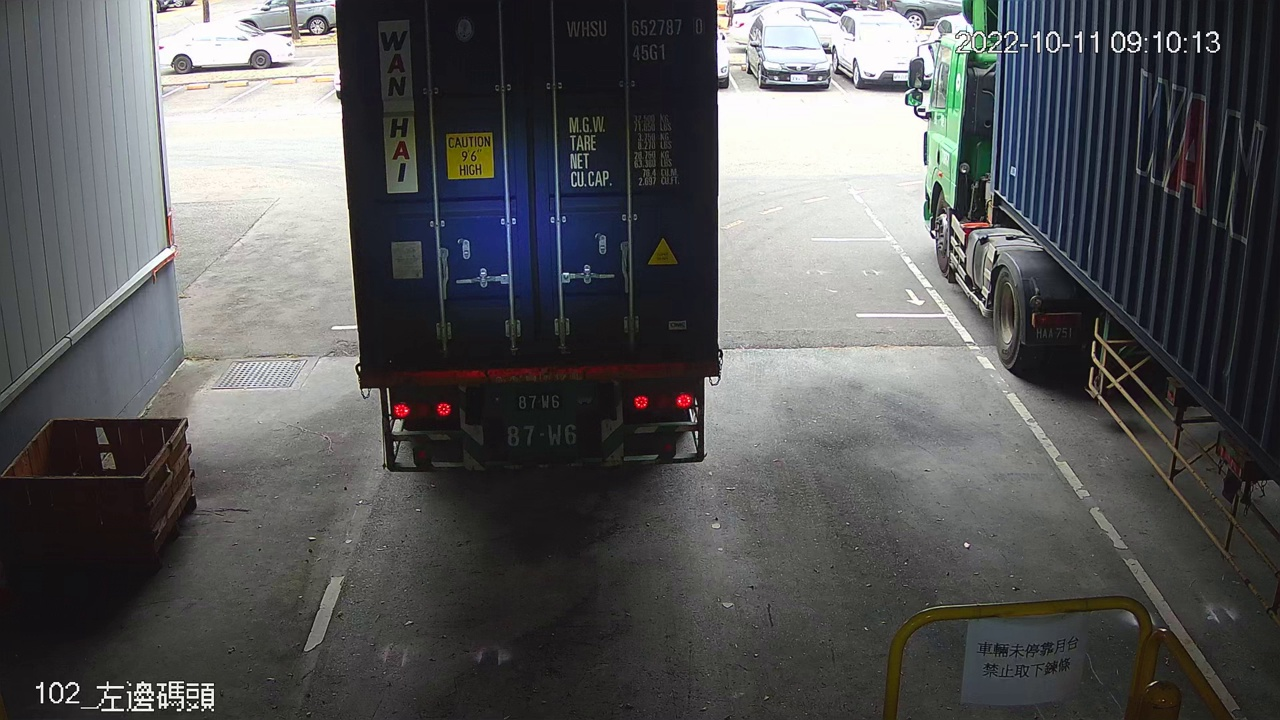container: (561, 10, 710, 70)
